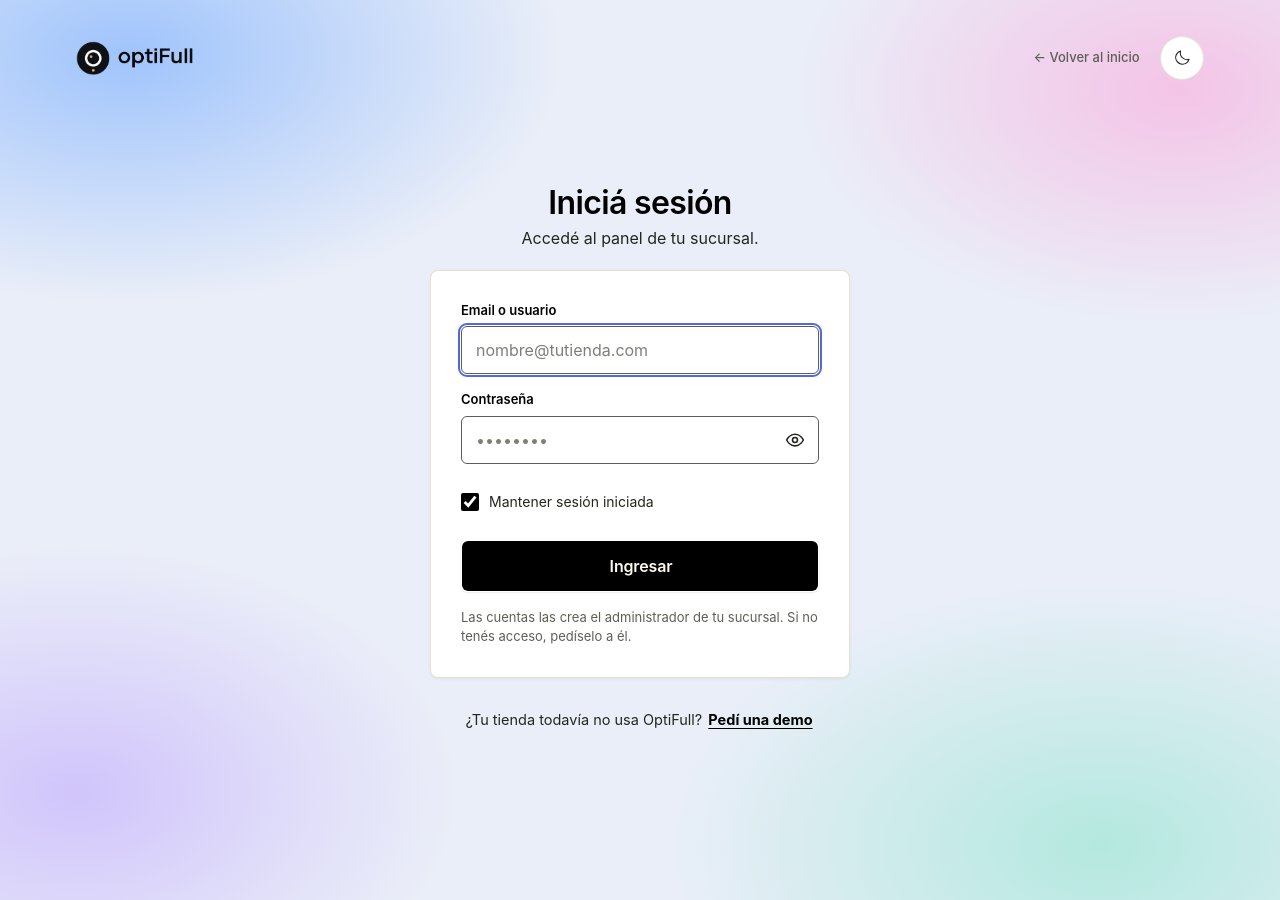
Scenario: ruteo y sesion › con View Transitions la navegacion pasa por la transicion
Click the button "← Volver al inicio" at [1087, 58], box [1022,36,1152,80]
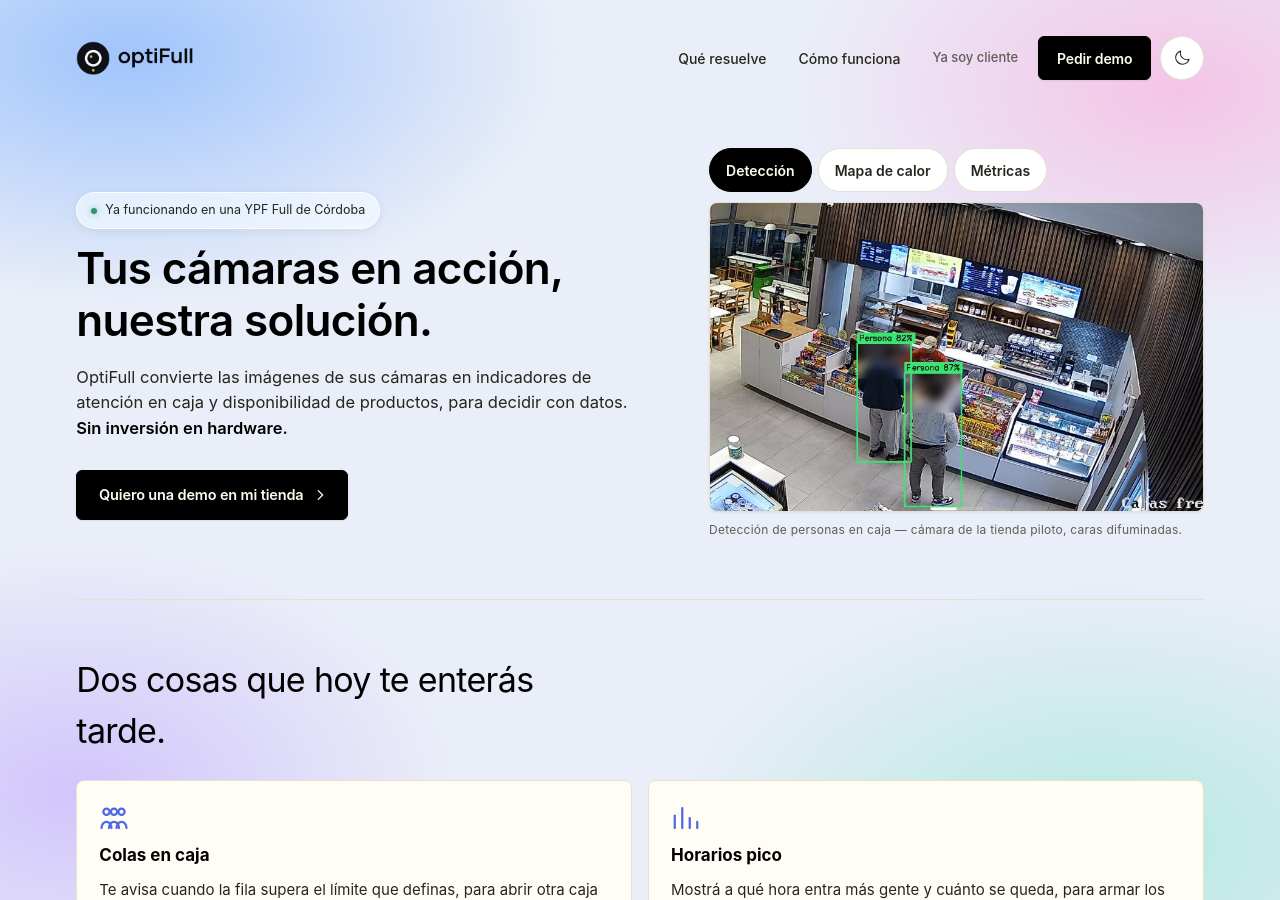
Result: the button "Ya soy cliente" is shown at [920,36,1030,80]
